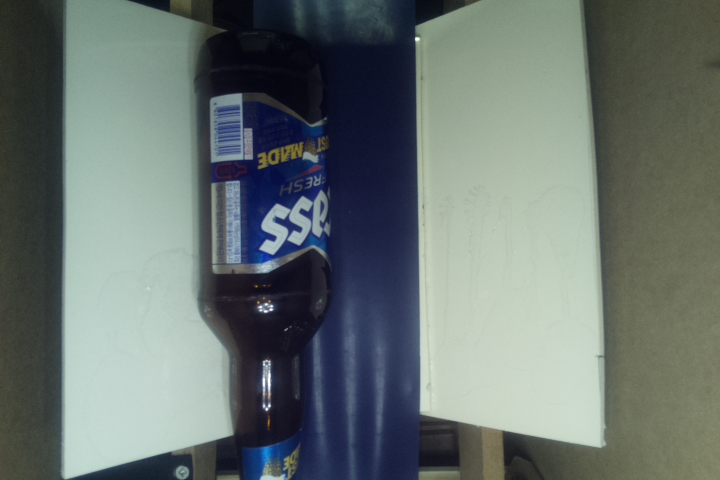makju: (193, 32, 333, 480)
